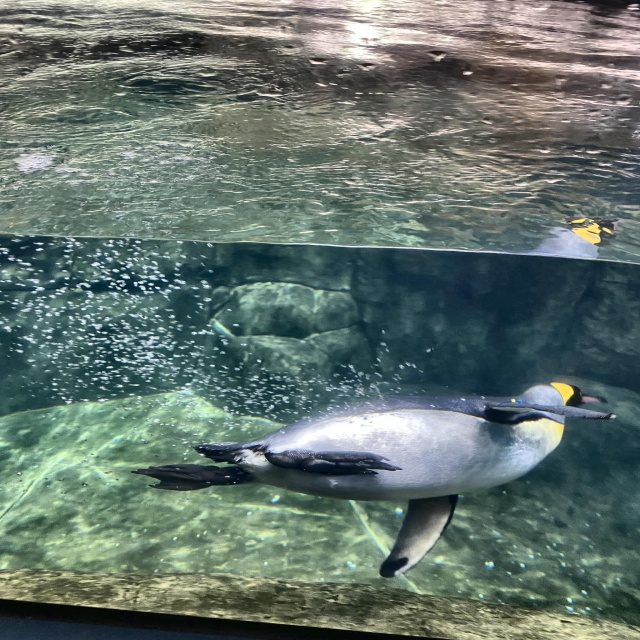penguin: (132, 382, 618, 578)
